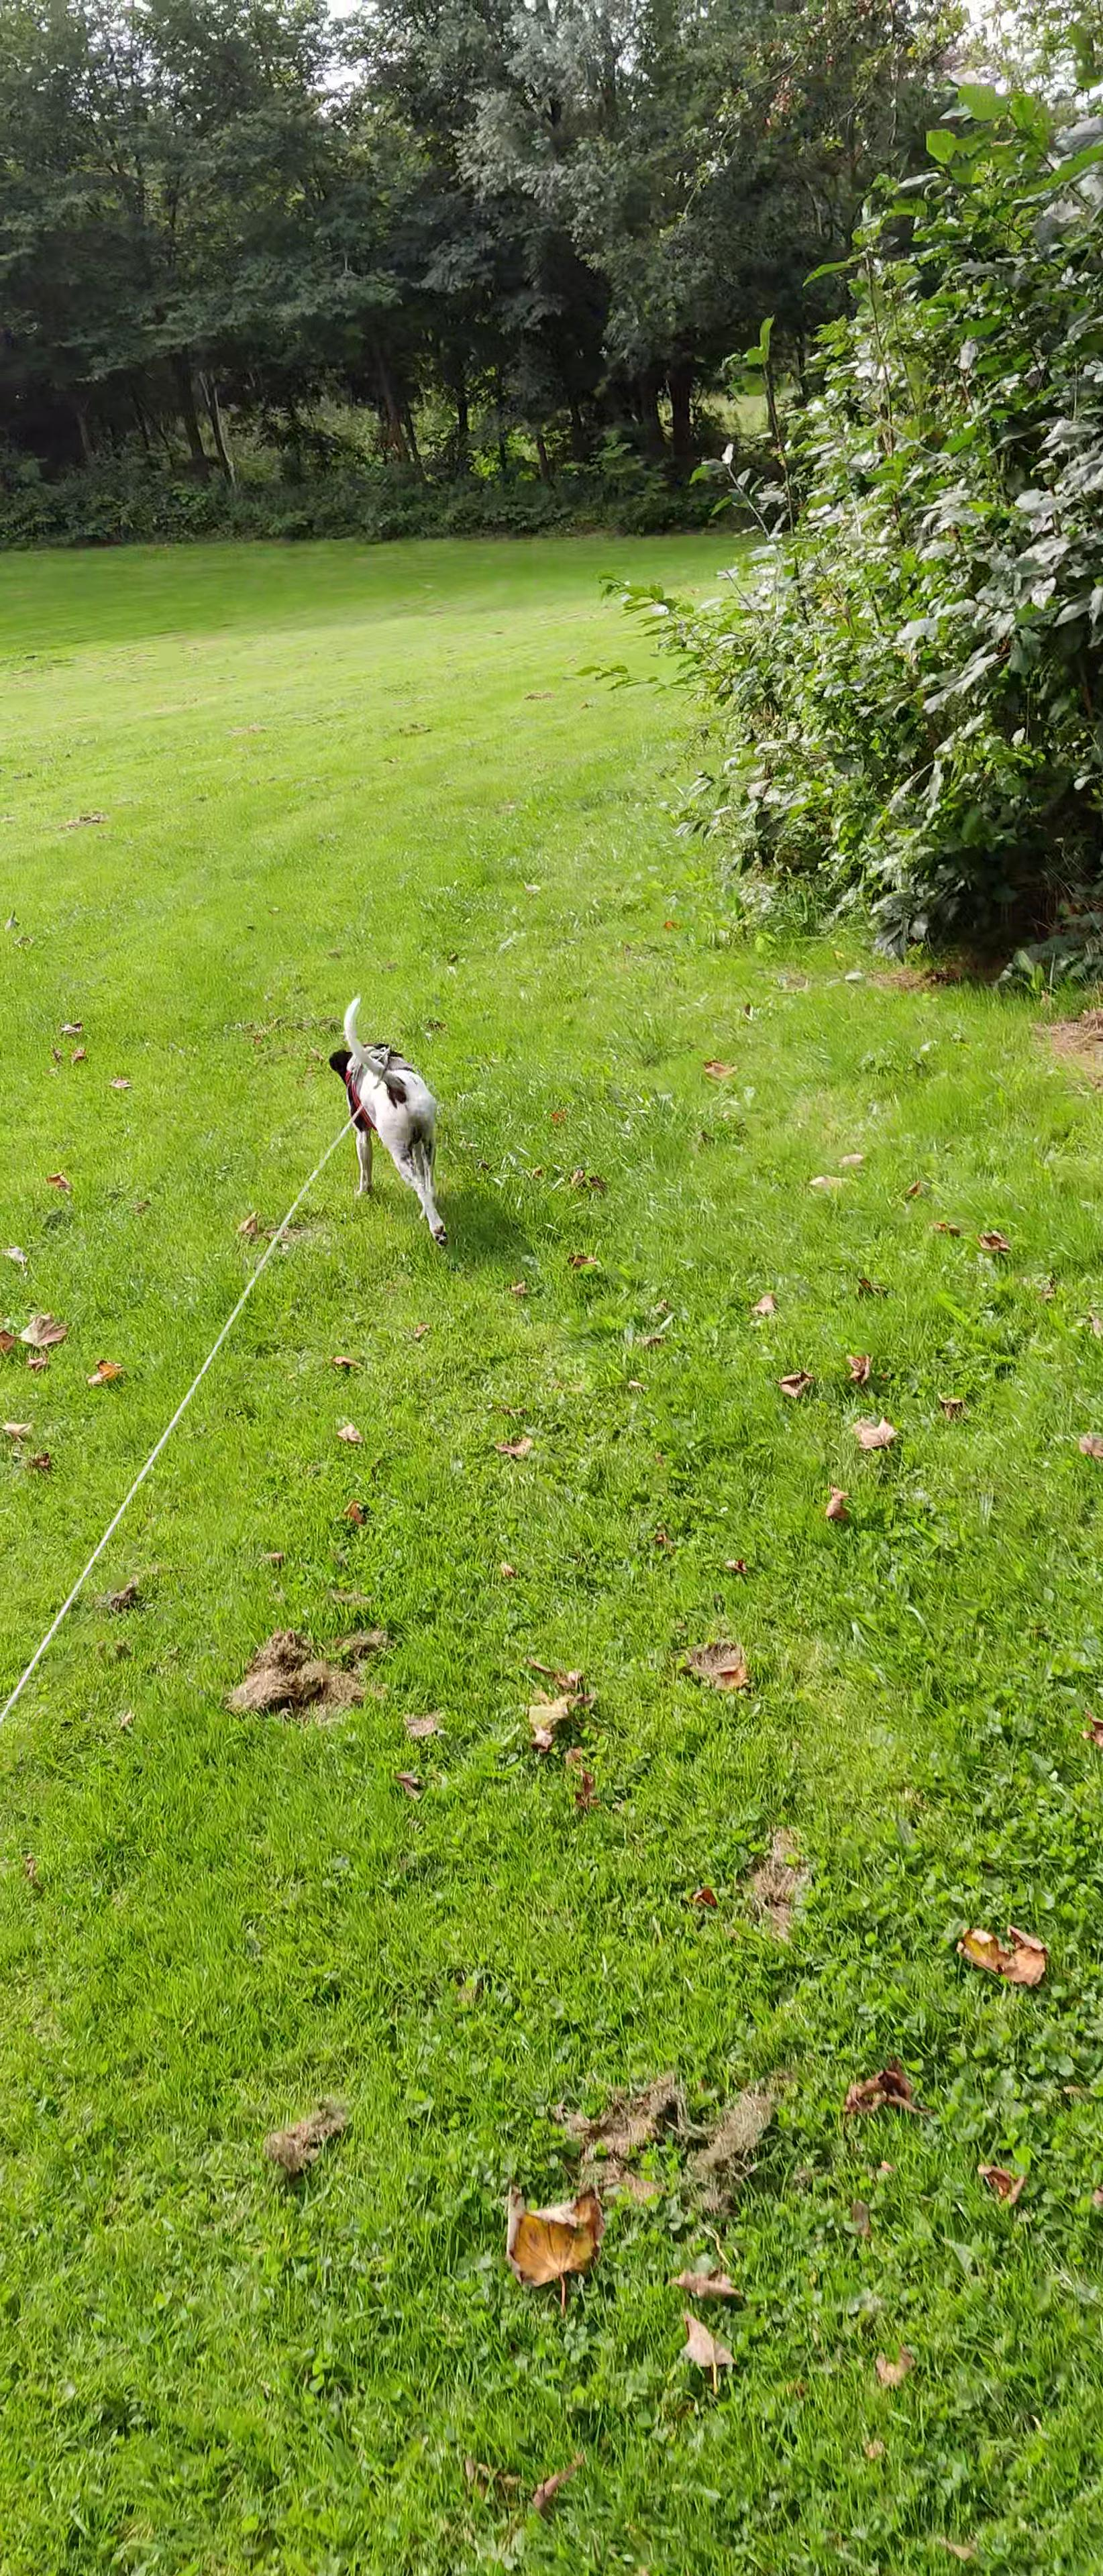Dog: (311, 981, 468, 1262)
